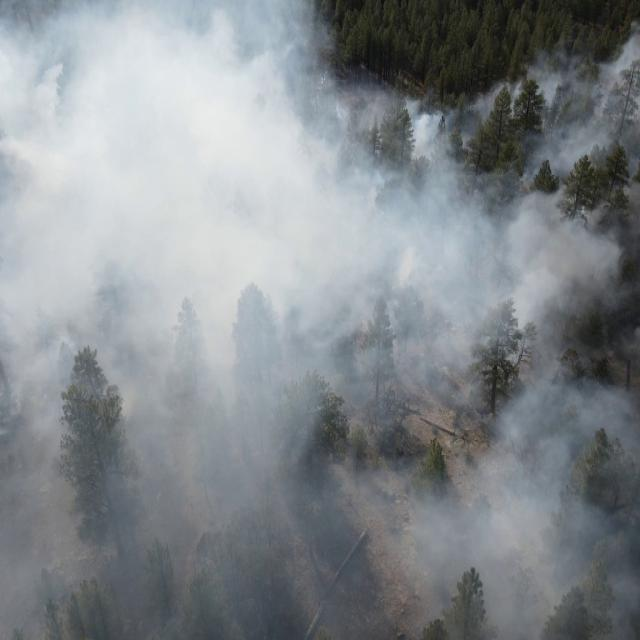smoke: (0, 0, 323, 640), (323, 65, 640, 640), (615, 20, 640, 69), (322, 0, 338, 66)
